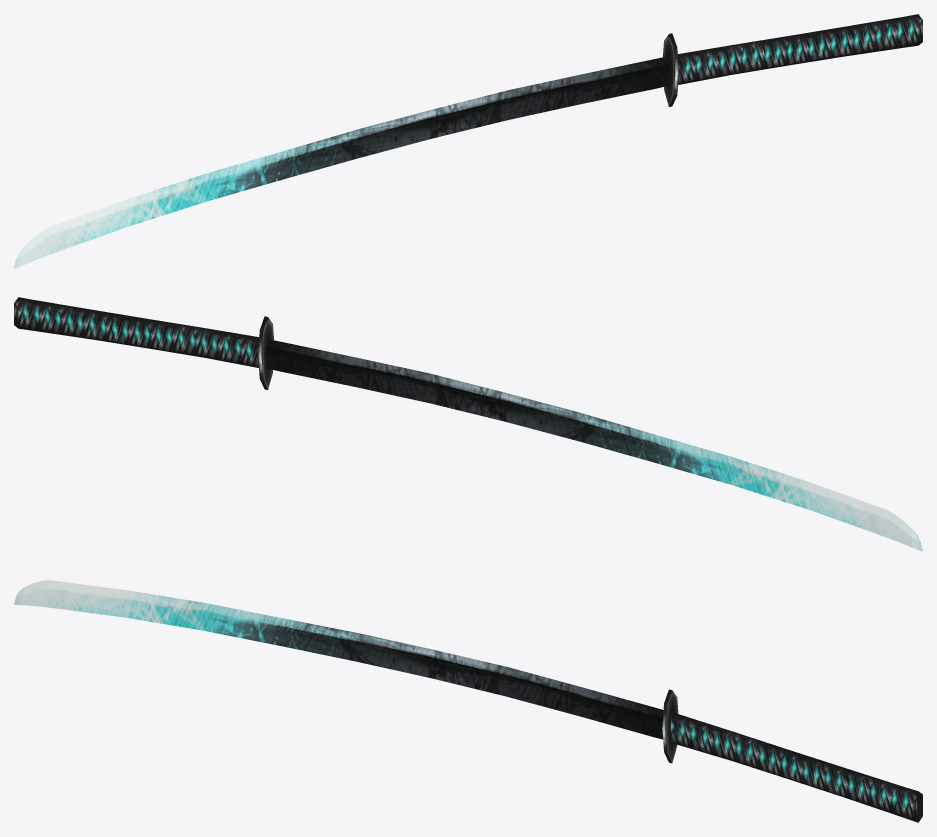
Rendered from katana.glb.
3 views of the same model, one above another, from view 1: azimuth 30°, elevation 25°; view 2: azimuth 150°, elevation 25°; view 3: azimuth 330°, elevation 25° (orthographic).
Parts seen in each view (by area): view 1: Object_3; view 2: Object_3; view 3: Object_3.
Part boxes in pixels (<box>): Object_3: <box>14,14,922,268</box>; Object_3: <box>14,297,922,551</box>; Object_3: <box>14,580,922,822</box>.
Size of the model in its own units: 176 by 13.92 by 4.37.
Materials: 1 (1 with a texture image).
